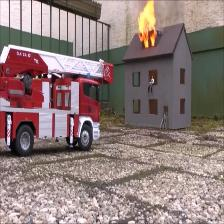fire: (135, 2, 159, 48)
